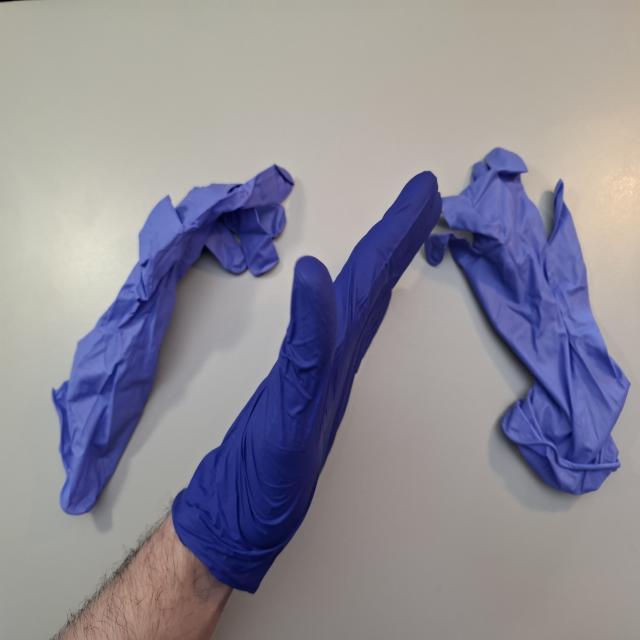glove_on: (168, 167, 446, 599)
